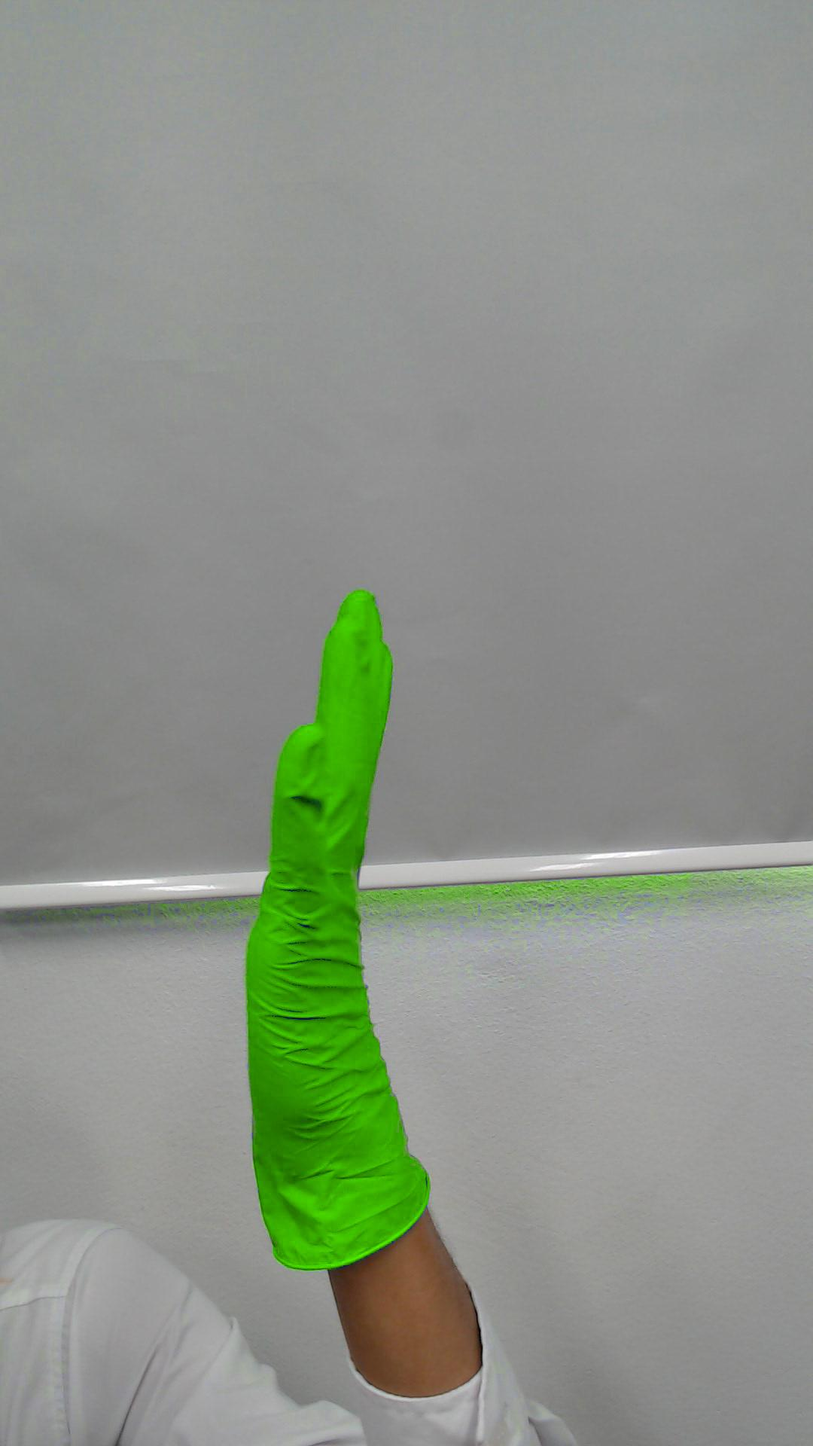gloves: (235, 572, 407, 1107)
